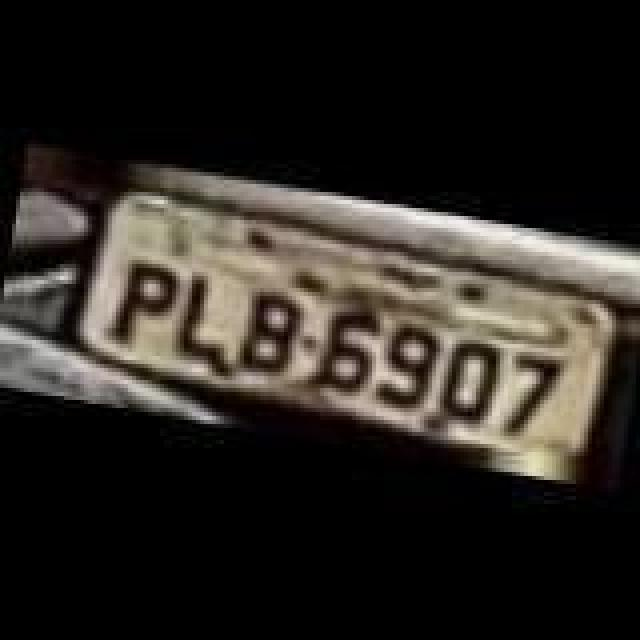6: (308, 306, 388, 402)
7: (490, 348, 566, 444)
9: (372, 320, 444, 412)
B: (232, 284, 304, 384)
L: (166, 266, 242, 370)
O: (436, 336, 508, 428)
P: (102, 252, 186, 356)
